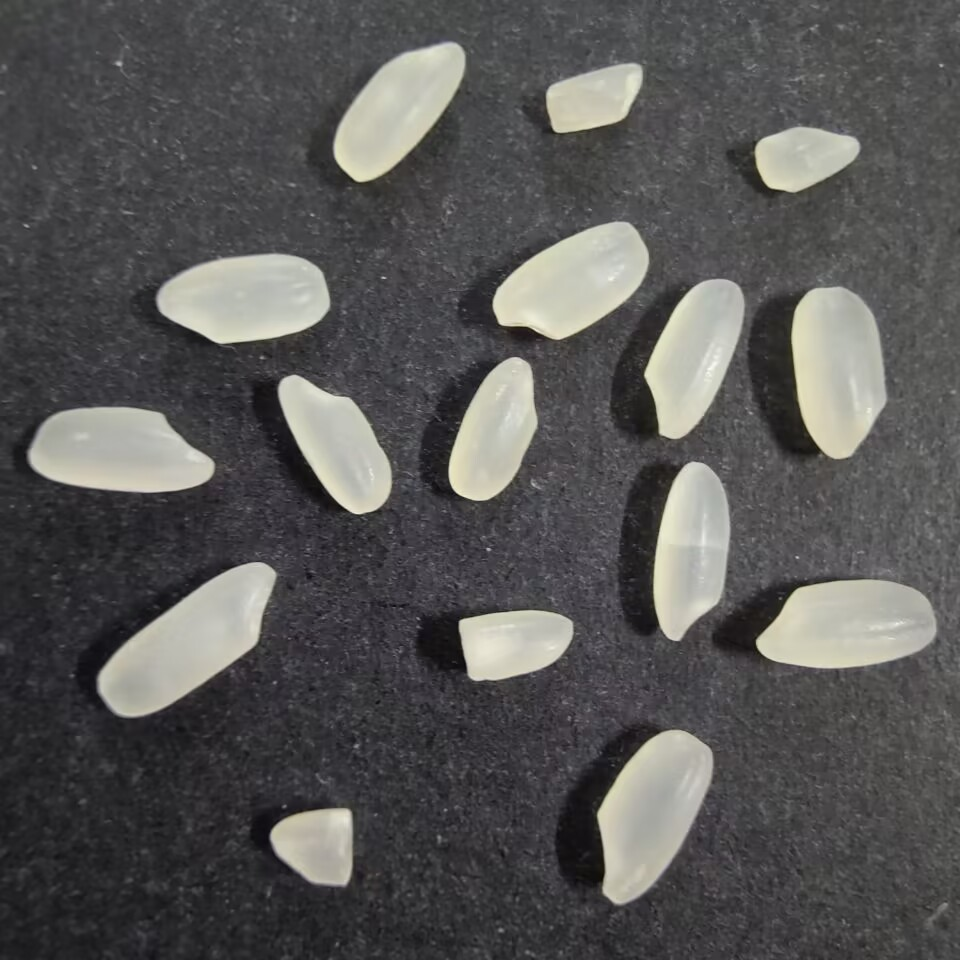broken: (453, 608, 577, 685), (751, 122, 863, 195), (542, 59, 646, 137), (267, 806, 362, 891)
rice: (96, 559, 279, 723), (596, 724, 718, 907), (327, 36, 469, 184), (491, 217, 650, 344), (749, 575, 938, 672), (788, 285, 890, 463), (275, 370, 396, 516), (25, 402, 216, 494), (641, 277, 745, 442), (647, 456, 733, 645), (155, 254, 332, 344), (445, 354, 542, 504)
